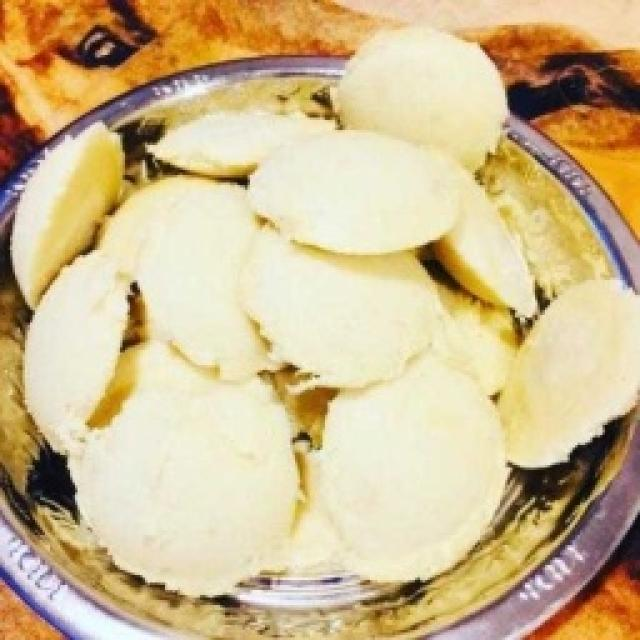idli: (14, 150, 574, 640)
